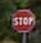stop: (10, 8, 35, 33)
